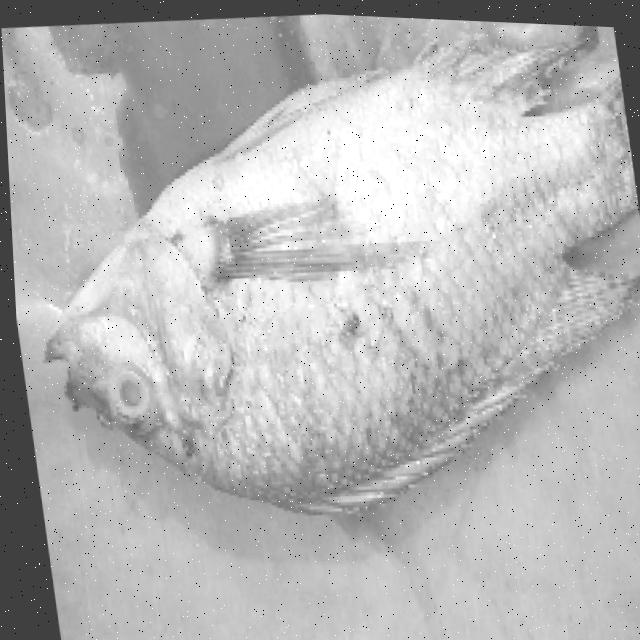Non-Fresh: (49, 304, 195, 462)
